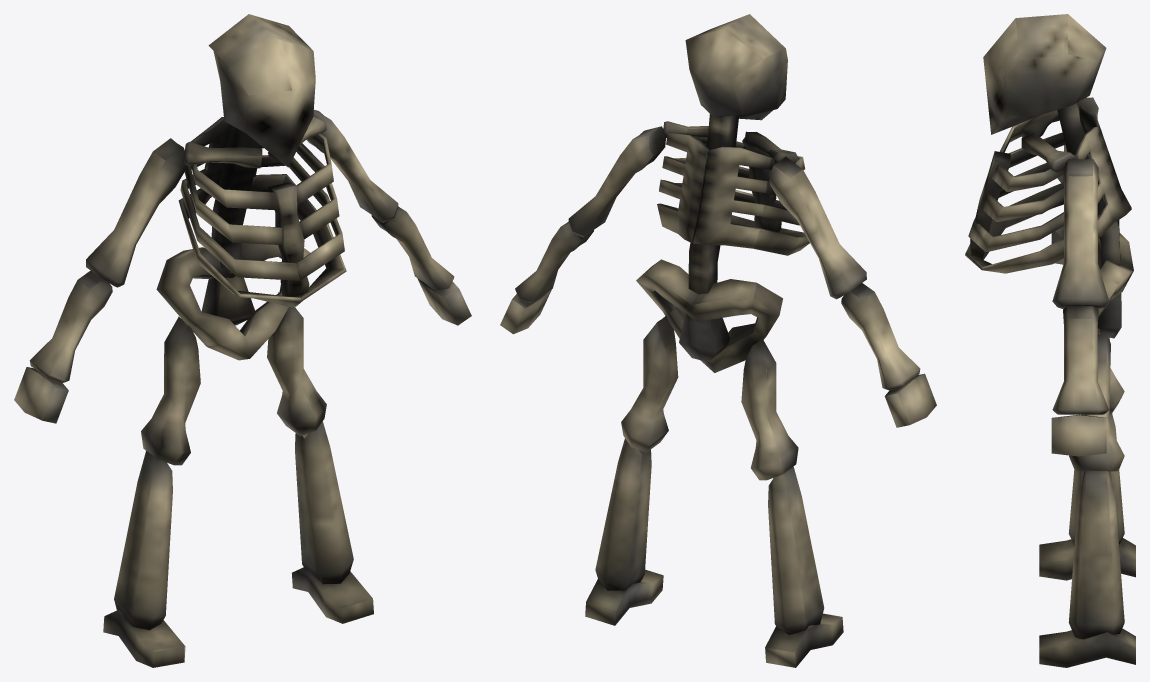
The model's file is skeleton.fbx.
The picture shows the model from 3 angles, left to right: view 1: azimuth 30°, elevation 25°; view 2: azimuth 150°, elevation 25°; view 3: azimuth 270°, elevation 25°; orthographic projection. The views are drawn at different scales.
Parts seen in each view (by area): view 1: Cube; view 2: Cube; view 3: Cube.
Boxes of the visible parts, bbox=[...] form: Cube: bbox=[14, 14, 471, 667]; Cube: bbox=[500, 14, 936, 667]; Cube: bbox=[965, 14, 1135, 667].
Bounding box in the file's own units: 120 × 163 × 41.98.
1 material, 1 textured.
